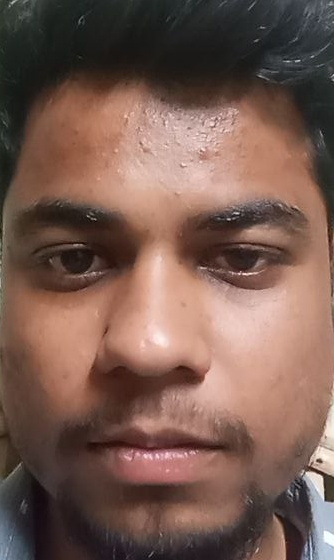closed_comedone: (116, 100, 157, 124)
papule: (190, 141, 224, 171), (104, 132, 134, 163)
